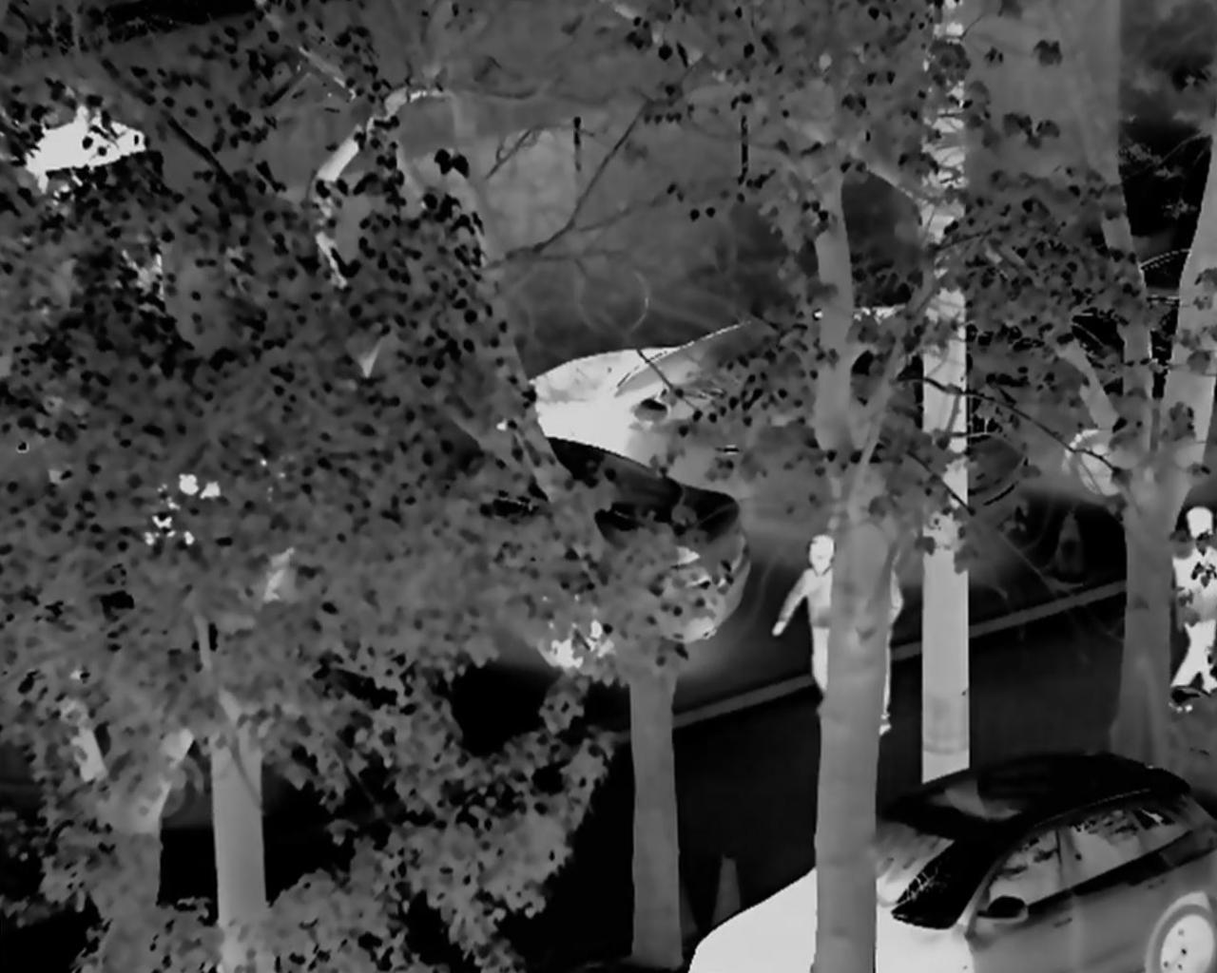person: (769, 525, 848, 742), (1158, 501, 1217, 696), (868, 556, 903, 742)
